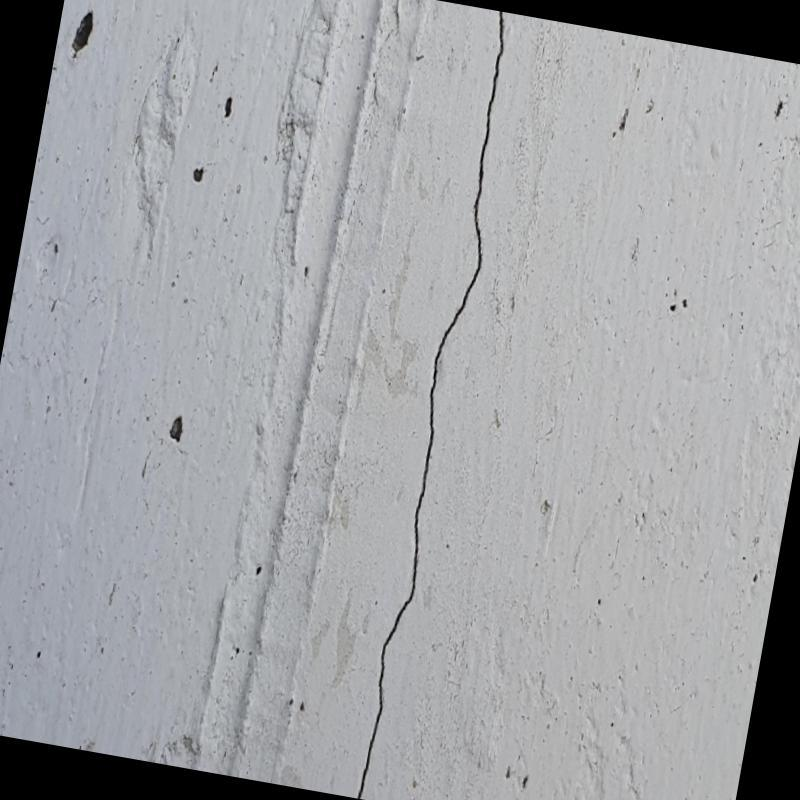pothole: (356, 12, 504, 798)
